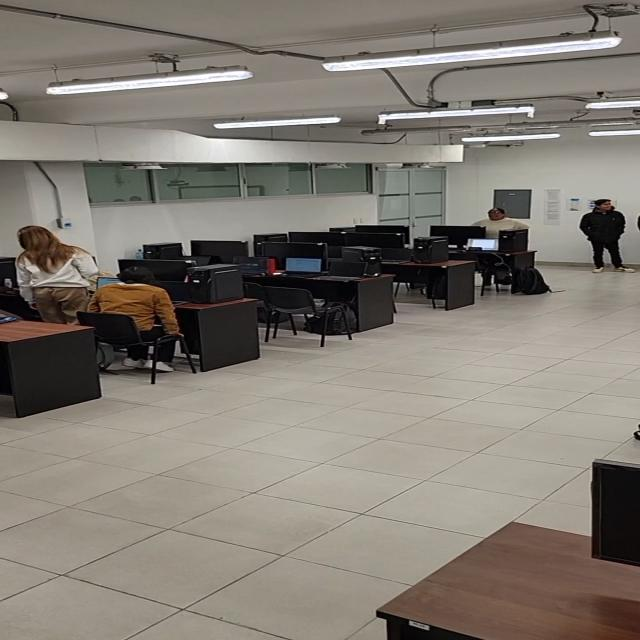Persona: (580, 198, 640, 274)
